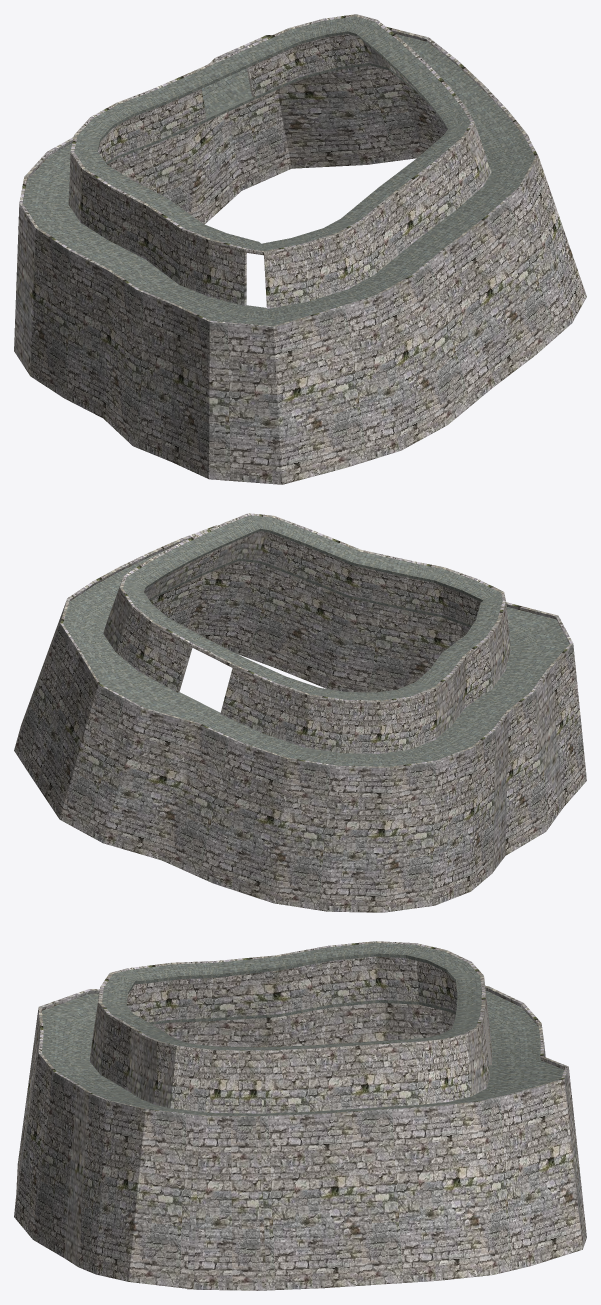
Rendered from ItalyCliffsRoad.glb.
3 views of the same model, one above another, from view 1: azimuth 30°, elevation 25°; view 2: azimuth 150°, elevation 25°; view 3: azimuth 270°, elevation 25° (orthographic). The views are drawn at different scales.
Visible parts, largest first — view 1: OuterRoad-col; view 2: OuterRoad-col; view 3: OuterRoad-col.
Part boxes in pixels (x1,y1,x2,y2): OuterRoad-col: [14, 14, 586, 484]; OuterRoad-col: [14, 513, 586, 912]; OuterRoad-col: [14, 941, 586, 1290].
Bounding box in the file's own units: 77.69 × 42.8 × 79.42.
Materials: 2 (2 with a texture image).
